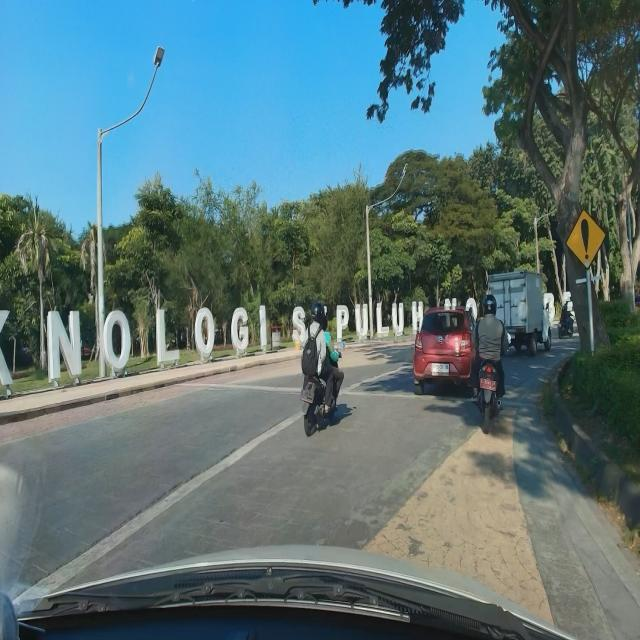car: (413, 305, 479, 397)
license-plate: (431, 363, 450, 374)
truck: (487, 270, 552, 357)
